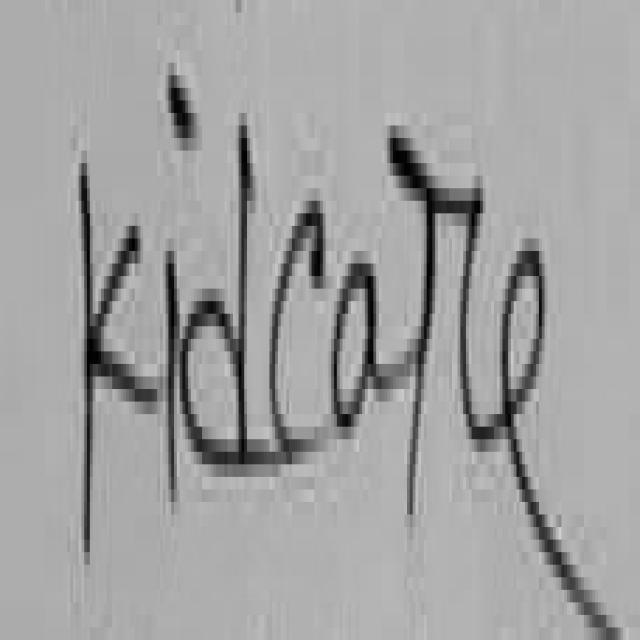K: (81, 163, 157, 546)
a: (334, 264, 415, 427)
c: (272, 201, 326, 464)
d: (182, 125, 253, 464)
e: (502, 251, 623, 640)
i: (166, 238, 182, 502), (171, 80, 192, 134)
r: (390, 125, 502, 508)
